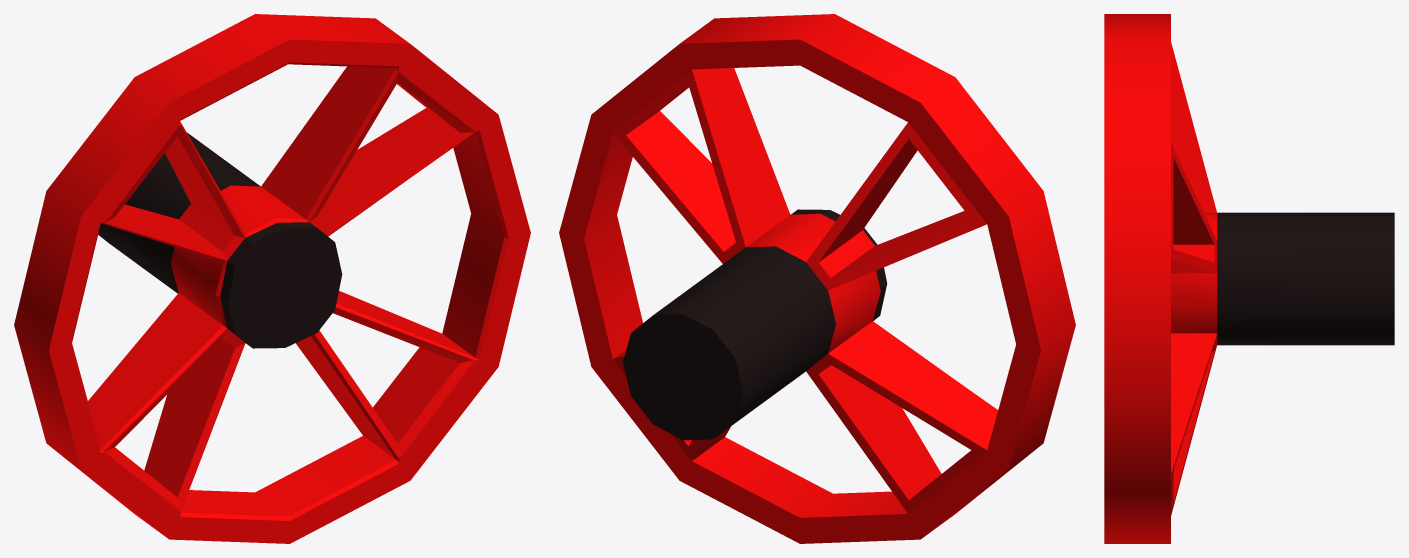
Rendered from Valve.FBX.
3 renders of one model, left to right at view 1: azimuth 30°, elevation 25°; view 2: azimuth 150°, elevation 25°; view 3: azimuth 270°, elevation 25°, orthographic. The views are drawn at different scales.
Visible parts, largest first — view 1: Valve; view 2: Valve; view 3: Valve.
Part boxes in pixels (x1,y1,x2,y2): Valve: (14, 14, 530, 543); Valve: (559, 14, 1075, 543); Valve: (1104, 14, 1394, 543).
Bounding box in the file's own units: 16 × 16 × 8.72.
